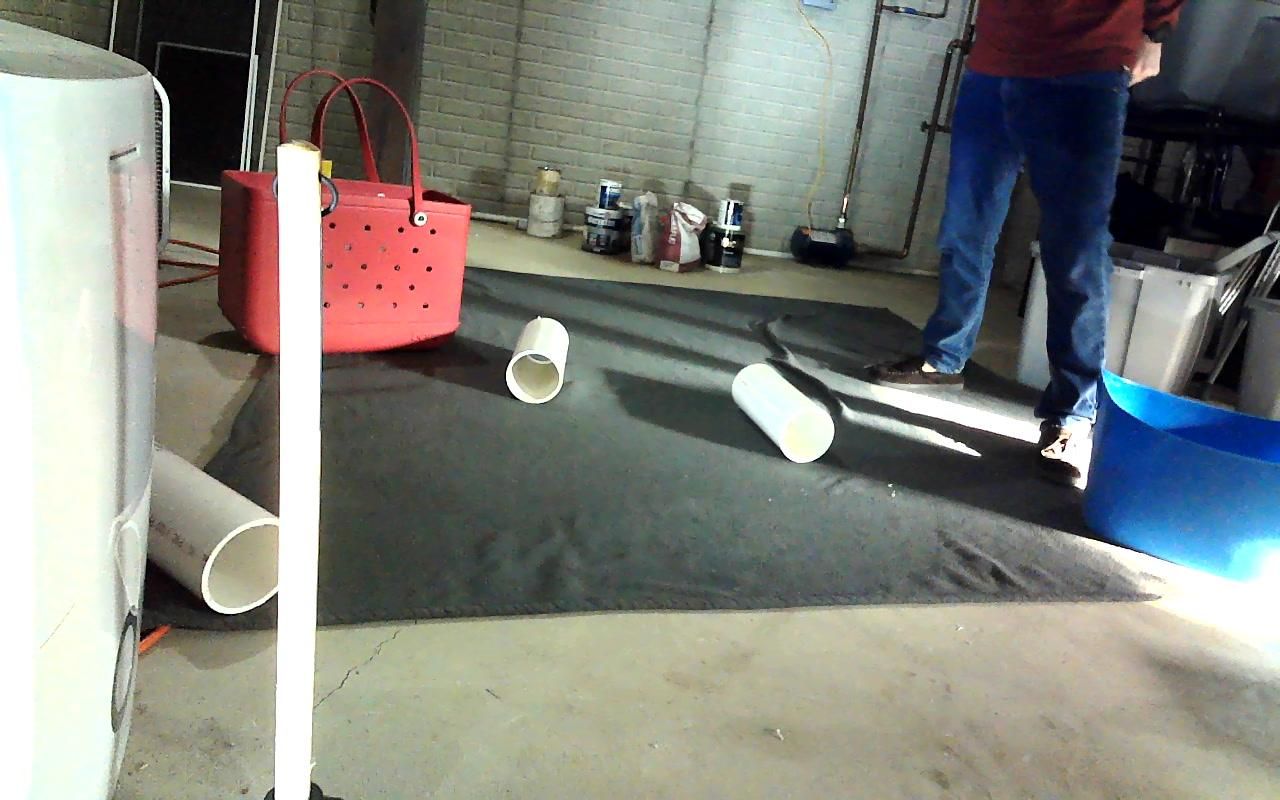coral: (148, 437, 280, 613), (730, 361, 833, 462), (505, 316, 568, 403)
